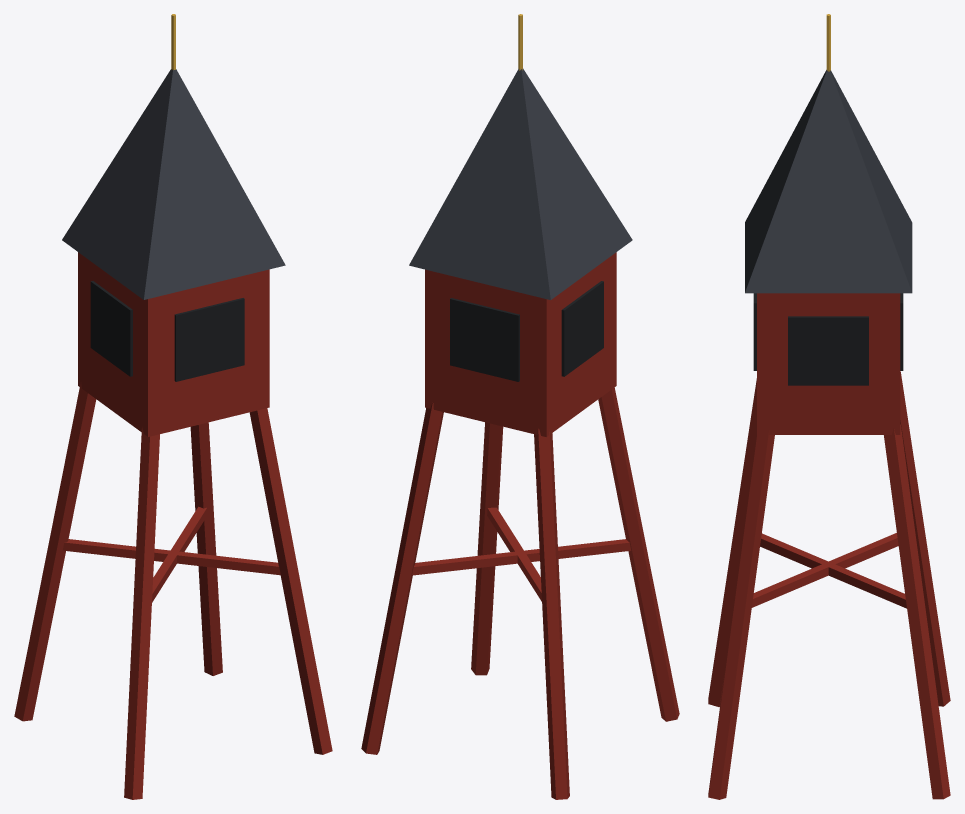
The model's file is klockstapel.glb.
3 renders of one model, left to right at view 1: azimuth 30°, elevation 25°; view 2: azimuth 150°, elevation 25°; view 3: azimuth 270°, elevation 25°, orthographic. The views are drawn at different scales.
Visible parts, largest first — view 1: klockstapel; view 2: klockstapel; view 3: klockstapel.
Boxes of the visible parts, <box> form: klockstapel: <box>14,14,332,799</box>; klockstapel: <box>361,14,679,799</box>; klockstapel: <box>708,14,950,799</box>.
Bounding box in the file's own units: 3.9 × 13.03 × 3.89.
